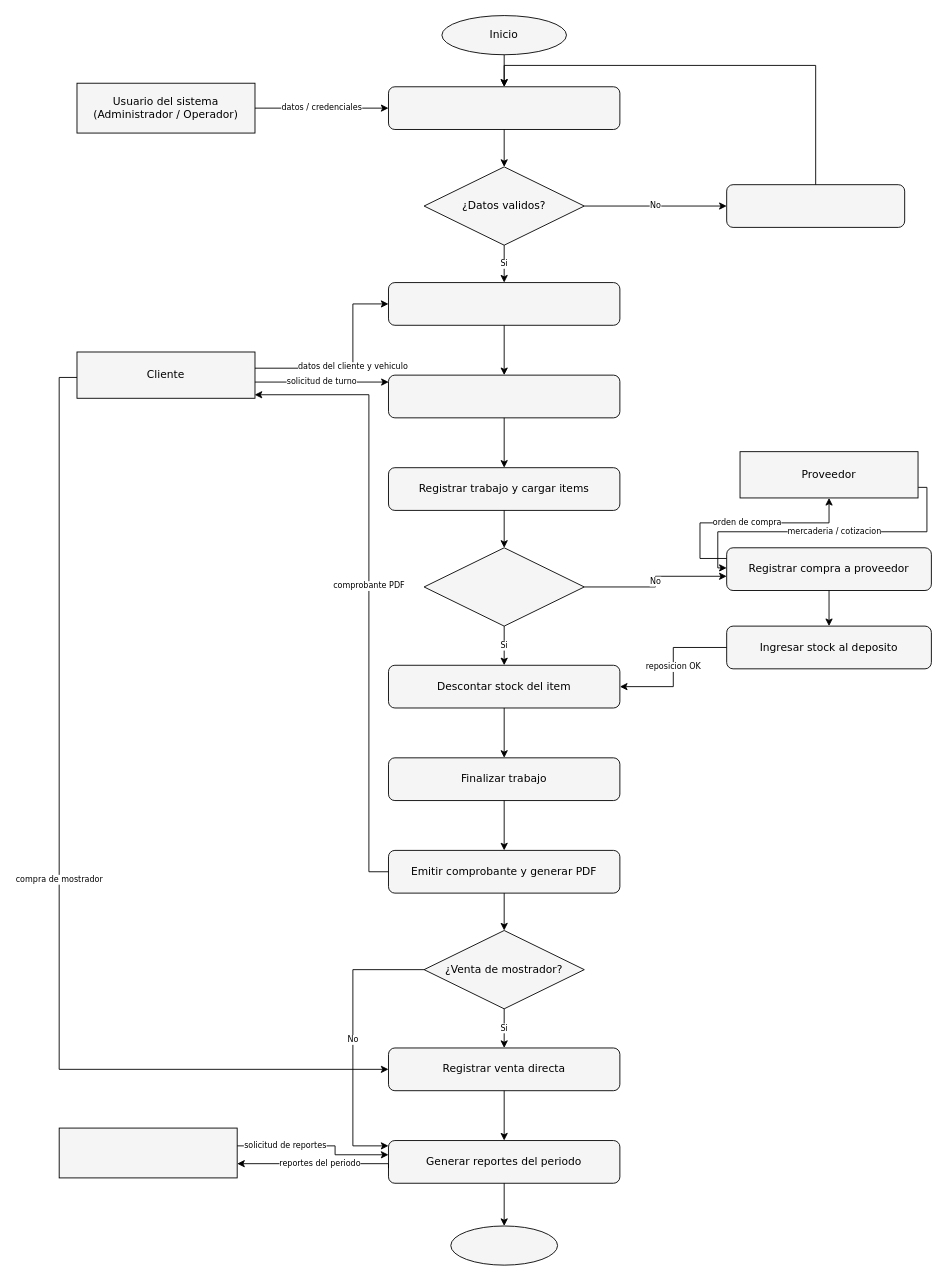
The diagram is 950 pixels wide and 1281 high, and some of its shapes have lost their labels. The centre of each missing label's shape, as x and y in pixels:
"Agendar turno" belongs at pixel 504 396.
"Fin" belongs at pixel 504 1245.
"Mostrar error de acceso" belongs at pixel 815 205.
"Propietario / Administrador" belongs at pixel 147 1152.
"Registrar cliente y vehiculo" belongs at pixel 504 303.
"Usuario inicia sesion" belongs at pixel 504 107.
"¿Stock suficiente?" belongs at pixel 503 586.
